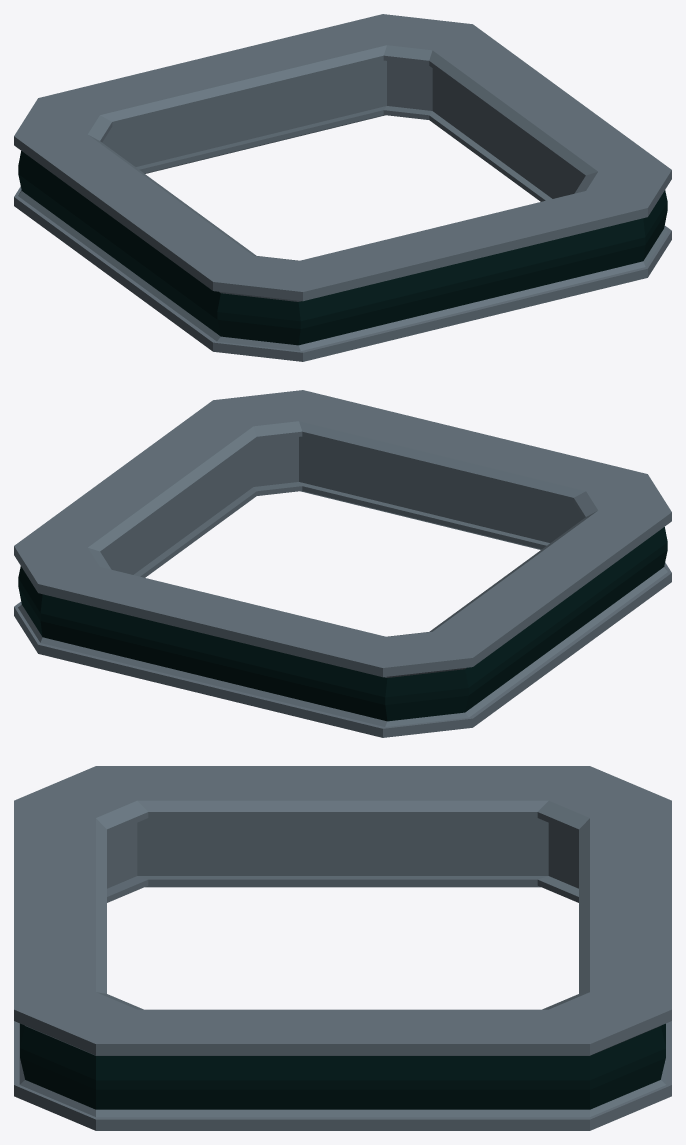
File: HoleInTheFloor.fbx
The picture shows the model from 3 angles, top to bottom: view 1: azimuth 30°, elevation 25°; view 2: azimuth 150°, elevation 25°; view 3: azimuth 270°, elevation 25°; orthographic projection. The views are drawn at different scales.
Visible parts, largest first — view 1: HoleInTheFloor; view 2: HoleInTheFloor; view 3: HoleInTheFloor.
Boxes of the visible parts, box(x1,y1,x2,y2) form: HoleInTheFloor: box(14, 14, 671, 361); HoleInTheFloor: box(14, 390, 671, 737); HoleInTheFloor: box(14, 766, 671, 1130).
Bounding box in the file's own units: 13.29 × 1.93 × 13.29.
